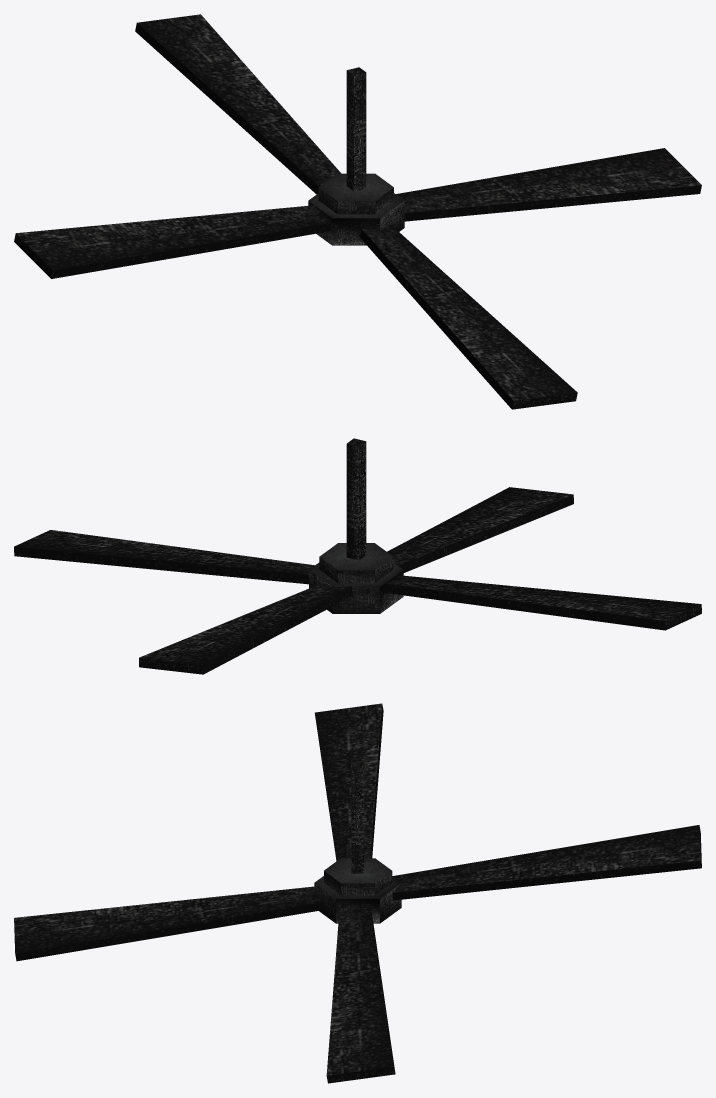
The model's file is Ventilador.fbx.
3 views of the same model, one above another, from view 1: azimuth 30°, elevation 25°; view 2: azimuth 150°, elevation 25°; view 3: azimuth 270°, elevation 25° (orthographic). The views are drawn at different scales.
Visible parts, largest first — view 1: Ventilador; view 2: Ventilador; view 3: Ventilador.
Boxes of the visible parts, x1,y1,x2,y2 form: Ventilador: (14,14,701,409); Ventilador: (14,438,701,674); Ventilador: (14,703,701,1083).
Bounding box in the file's own units: 157 × 45.86 × 157.
